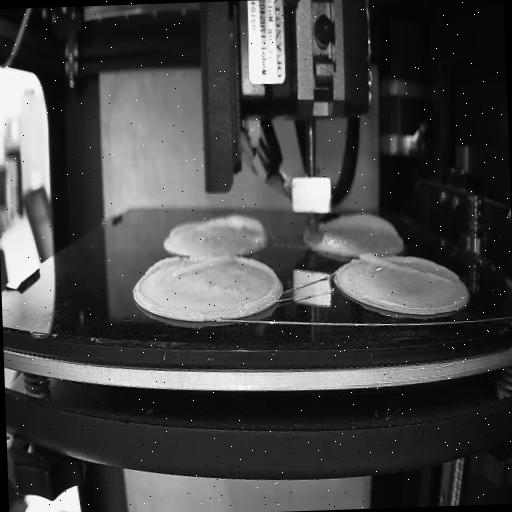over_extrusion: (356, 249, 456, 290), (144, 252, 232, 282), (208, 211, 270, 248), (236, 256, 280, 307), (334, 211, 397, 237), (168, 220, 198, 240)
